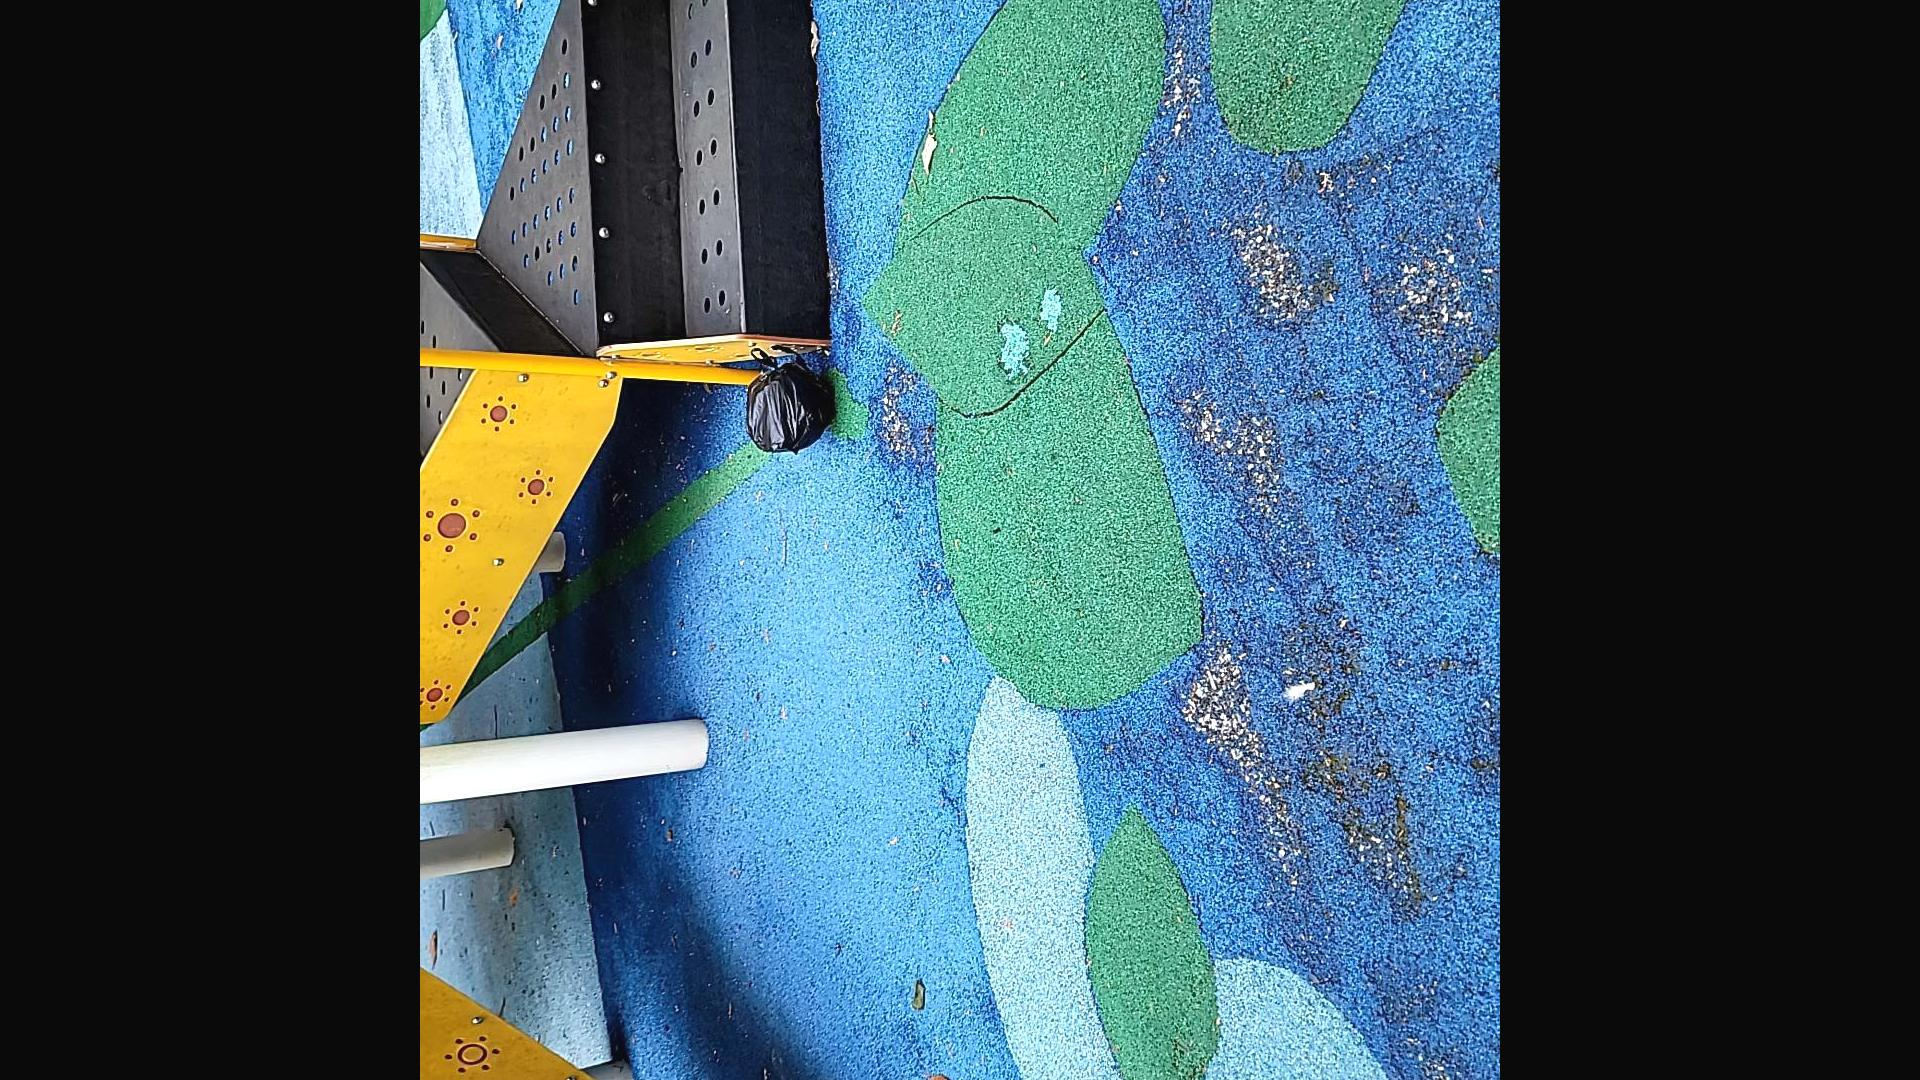black_bag: (731, 342, 837, 458)
